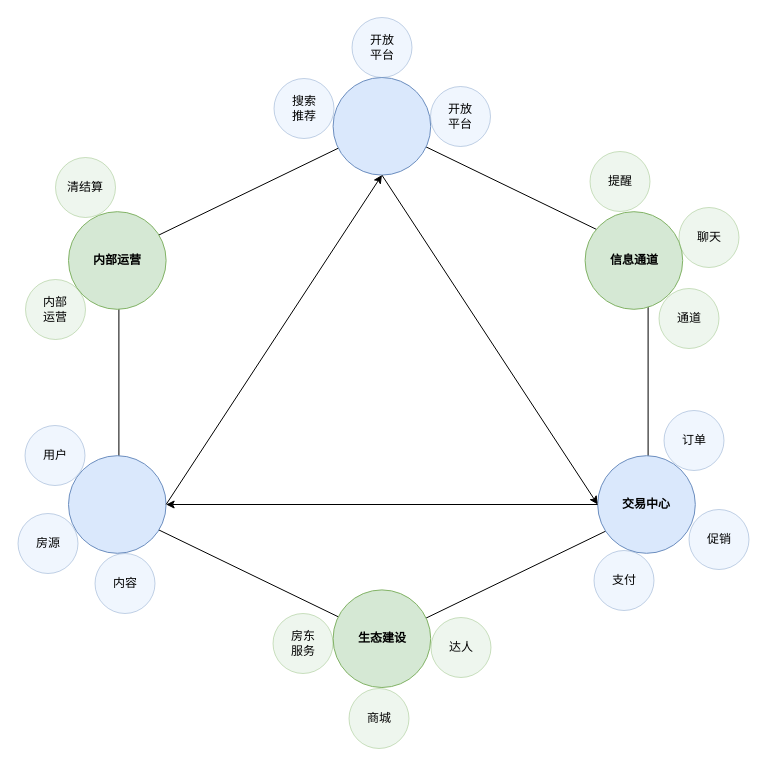
Some shapes in this 766 by 766 pixel diagram are drawn without their labels. Here are the shapes that lost their labels. From the top down, the box of each, then its label:
(332, 76, 431, 175): 流量运营
(68, 455, 166, 553): 基础业务
